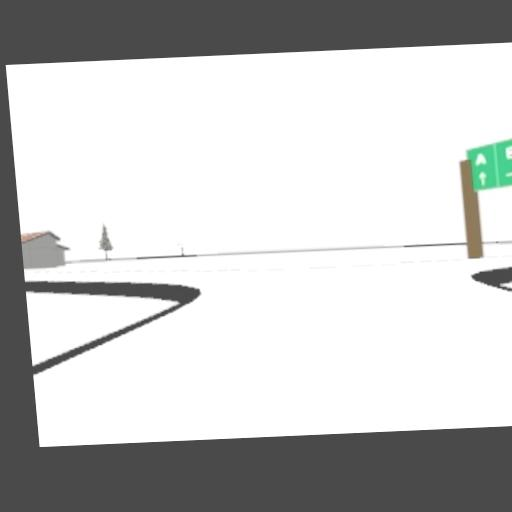A: (475, 153, 487, 166)
B: (505, 145, 512, 159)
Right: (505, 169, 512, 179)
Straight: (479, 171, 488, 186)
